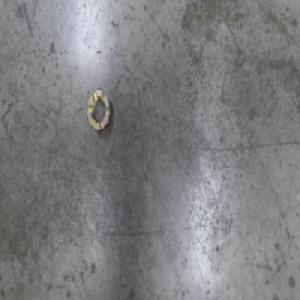Nut: (86, 85, 113, 134)
